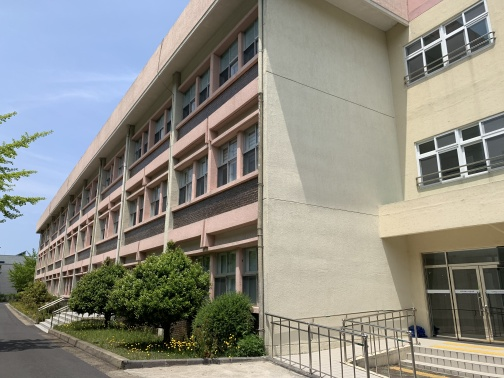College Of Education: (20, 33, 498, 370)
